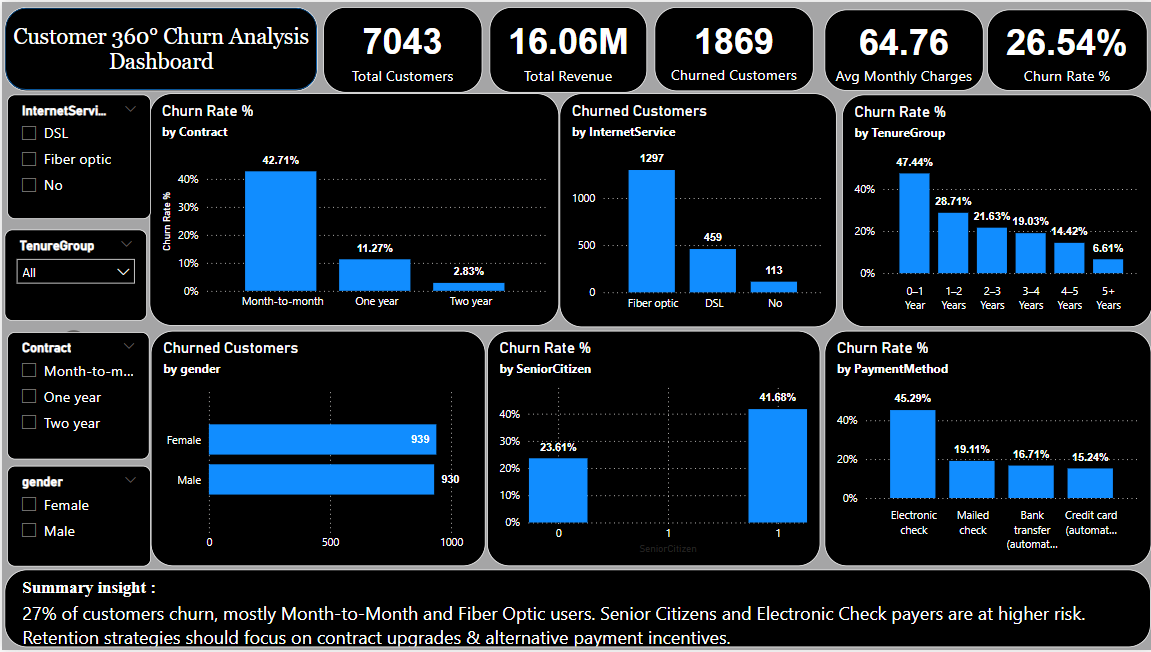

What the dashboard file says about the page in this screenshot:
{"tool":"powerbi","page":{"name":"Page 1","canvas":[1280,720],"ordinal":0},"visuals":[{"type":"card","fields":{"Values":["Measured Table.Churned Customers"]},"box":[725,5,176.7,93.3],"z":0},{"type":"actionButton","box":[60.3,359.5,100.1,39.8],"z":1000},{"type":"card","fields":{"Values":["Measured Table.Total Customers"]},"box":[356.7,5,176.7,95],"z":2000},{"type":"card","fields":{"Values":["Measured Table.Churn Rate %"]},"box":[1095,8.3,178.3,90],"z":3000},{"type":"card","fields":{"Values":["Measured Table.Avg Monthly Charges"]},"box":[913.3,8.3,176.7,90],"z":4000},{"type":"card","fields":{"Values":["Measured Table.Total Revenue"]},"box":[541.7,5,175,95],"z":5000},{"type":"clusteredColumnChart","fields":{"Y":["Measured Table.Churn Rate %"],"Category":["DimContract.Contract"]},"box":[163.3,101.7,455,258.3],"z":6000},{"type":"columnChart","fields":{"Y":["Measured Table.Churn Rate %"],"Category":["DimTenure table.TenureGroup"]},"box":[933.3,103.3,345,258.3],"z":7000},{"type":"clusteredColumnChart","fields":{"Y":["Measured Table.Churned Customers"],"Category":["DimServices.InternetService"]},"box":[620,101.7,308.3,260],"z":8000},{"type":"barChart","fields":{"Category":["DimCustomer.gender"],"Y":["Measured Table.Churned Customers"]},"box":[165,365,371.7,261.7],"z":9000},{"type":"clusteredColumnChart","fields":{"Y":["Measured Table.Churn Rate %"],"Category":["DimCustomer.SeniorCitizen"]},"box":[538.3,365,370,261.7],"z":10000},{"type":"columnChart","fields":{"Y":["Measured Table.Churn Rate %"],"Category":["DimContract.PaymentMethod"]},"box":[913.3,365,363.3,261.7],"z":11000},{"type":"slicer","fields":{"Values":["DimContract.Contract"]},"box":[5,366.7,158.3,141.7],"z":12000},{"type":"slicer","fields":{"Values":["DimServices.InternetService"]},"box":[5,103.3,160,138.3],"z":13000},{"type":"slicer","fields":{"Values":["DimTenure table.TenureGroup"]},"box":[3.3,253.3,158.3,101.7],"z":14000},{"type":"slicer","fields":{"Values":["DimCustomer.gender"]},"box":[5,515,160,111.7],"z":15000},{"type":"shape","box":[3.3,5,348.3,93.3],"z":16000},{"type":"shape","title":"Summary insight : ","box":[3.3,630,1273.3,86.7],"z":17000}]}

Visuals, with their boxes in screenshot pixels (x1, y1, x2, y2), scaled from the page's 1280x720 canvas onto the 1151x652 screenshot:
card - Measured Table.Churned Customers: <bbox>652, 5, 811, 89</bbox>
actionButton: <bbox>54, 326, 144, 362</bbox>
card - Measured Table.Total Customers: <bbox>321, 5, 480, 91</bbox>
card - Measured Table.Churn Rate %: <bbox>985, 8, 1145, 89</bbox>
card - Measured Table.Avg Monthly Charges: <bbox>821, 8, 980, 89</bbox>
card - Measured Table.Total Revenue: <bbox>487, 5, 644, 91</bbox>
clusteredColumnChart - Measured Table.Churn Rate % x DimContract.Contract: <bbox>147, 92, 556, 326</bbox>
columnChart - Measured Table.Churn Rate % x DimTenure table.TenureGroup: <bbox>839, 94, 1149, 327</bbox>
clusteredColumnChart - Measured Table.Churned Customers x DimServices.InternetService: <bbox>558, 92, 835, 328</bbox>
barChart - DimCustomer.gender x Measured Table.Churned Customers: <bbox>148, 331, 483, 568</bbox>
clusteredColumnChart - Measured Table.Churn Rate % x DimCustomer.SeniorCitizen: <bbox>484, 331, 817, 568</bbox>
columnChart - Measured Table.Churn Rate % x DimContract.PaymentMethod: <bbox>821, 331, 1148, 568</bbox>
slicer - DimContract.Contract: <bbox>4, 332, 147, 460</bbox>
slicer - DimServices.InternetService: <bbox>4, 94, 148, 219</bbox>
slicer - DimTenure table.TenureGroup: <bbox>3, 229, 145, 321</bbox>
slicer - DimCustomer.gender: <bbox>4, 466, 148, 568</bbox>
shape: <bbox>3, 5, 316, 89</bbox>
"Summary insight : " shape: <bbox>3, 570, 1148, 649</bbox>
